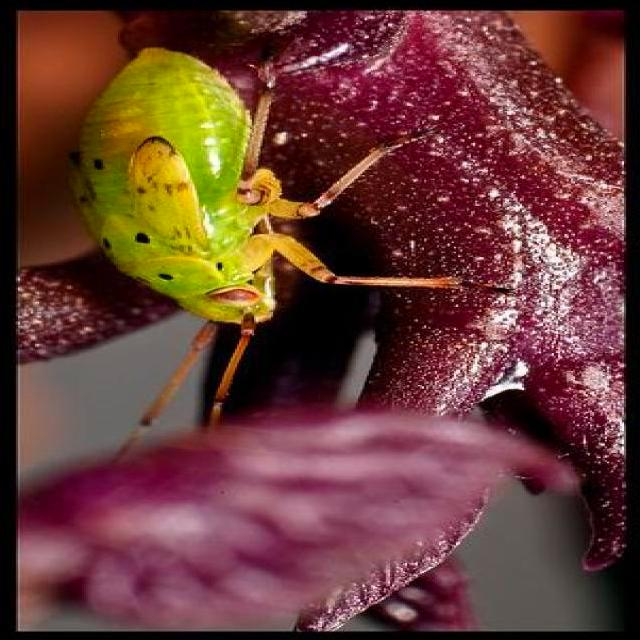aphid: (28, 43, 484, 390)
